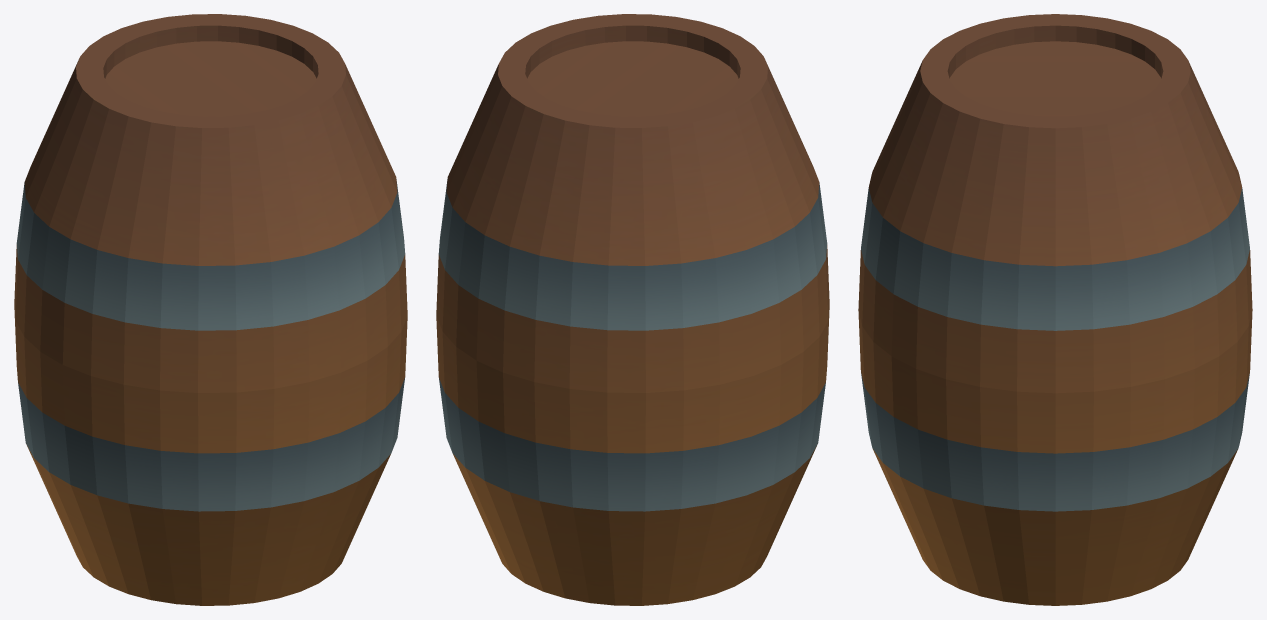
File: barrel.fbx
3 views of the same model, side by side, from view 1: azimuth 30°, elevation 25°; view 2: azimuth 150°, elevation 25°; view 3: azimuth 270°, elevation 25° (orthographic).
Parts seen in each view (by area): view 1: Barrel; view 2: Barrel; view 3: Barrel.
Part boxes in pixels (box(x1,y1,x2,y2)): Barrel: box(14, 14, 407, 605); Barrel: box(436, 14, 829, 605); Barrel: box(858, 14, 1252, 605).
Bounding box in the file's own units: 45.59 × 60.96 × 45.59.
